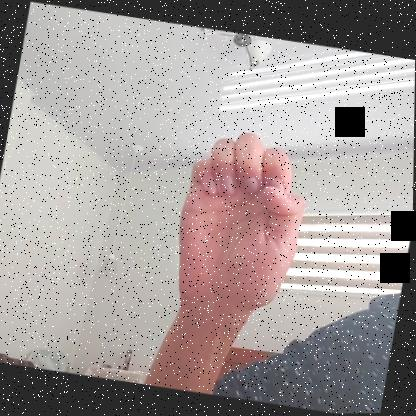E: (164, 120, 318, 322)
